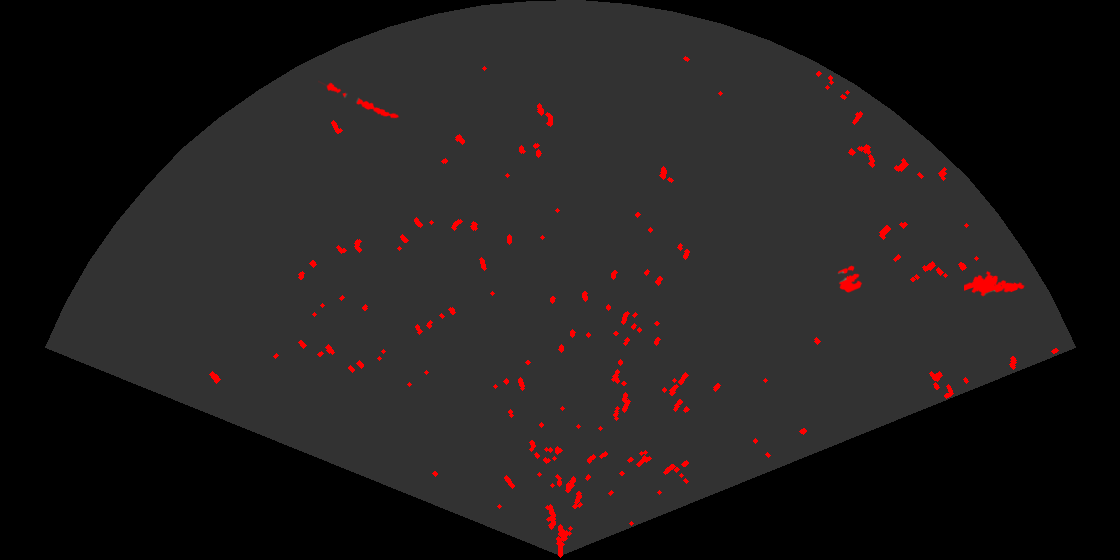ball: (836, 264, 864, 294)
chain: (318, 79, 401, 120)
frogman: (964, 269, 1026, 298)
